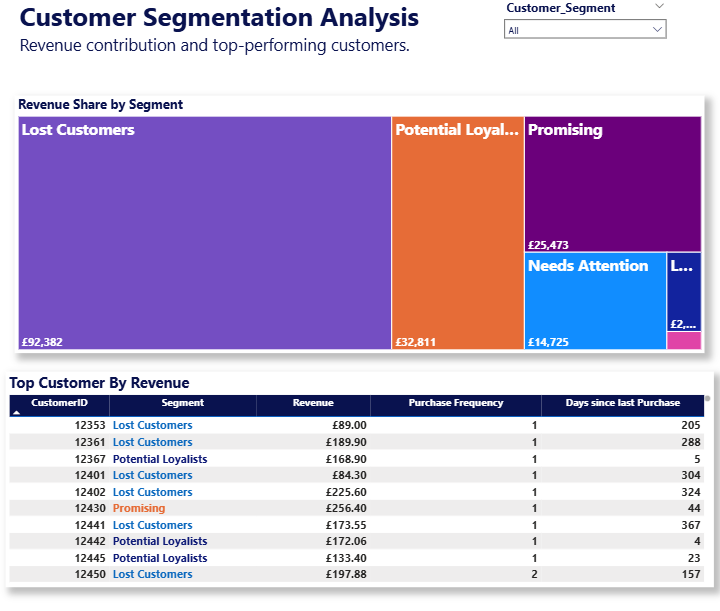

The dashboard page shown, as its layout file describes it:
{"tool":"powerbi","page":{"name":"Page 2","canvas":[1050,900],"ordinal":1},"visuals":[{"type":"treemap","title":"Revenue Share by Segment","fields":{"Group":["customer_segments.Customer_Segment"],"Values":["Sum(customer_segments.Monetary)"]},"box":[24.6,146.4,1000,373.2],"z":0},{"type":"tableEx","title":"Top Customer By Revenue","fields":{"Values":["customer_segments.CustomerID","customer_segments.Customer_Segment","Sum(customer_segments.Monetary)","customer_segments.Frequency","customer_segments.Recency"]},"box":[11.2,544.6,1026.8,312.5],"z":1000},{"type":"textbox","box":[25,0,654.5,120.5],"z":2000},{"type":"slicer","fields":{"Values":["customer_segments.Customer_Segment"]},"box":[723.9,0,254.3,73.9],"z":3000}]}

Visuals, with their boxes in screenshot pixels (x1, y1, x2, y2), scaled from the page's 1050x900 canvas onto the 720x611 screenshot:
"Revenue Share by Segment" treemap: <region>17, 99, 703, 353</region>
"Top Customer By Revenue" tableEx: <region>8, 370, 712, 582</region>
textbox: <region>17, 0, 466, 82</region>
slicer - customer_segments.Customer_Segment: <region>496, 0, 671, 50</region>
